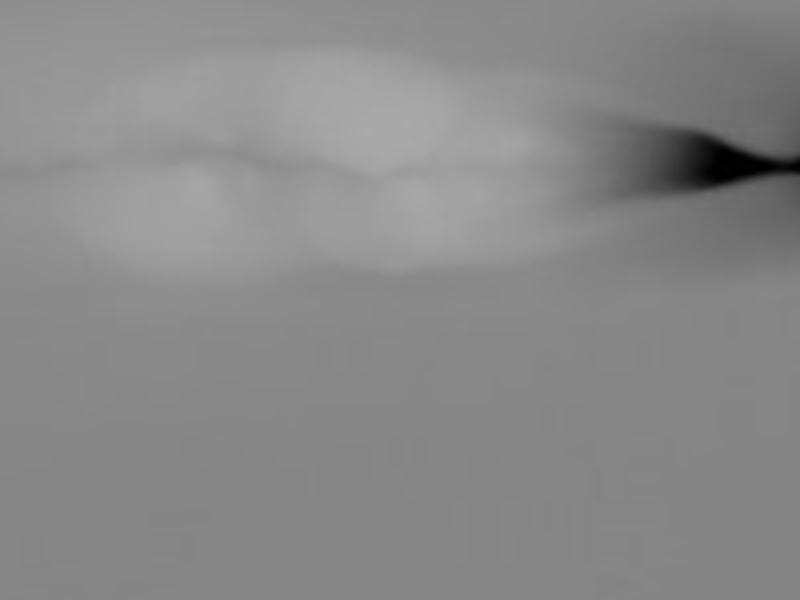defect: (652, 127, 778, 193)
